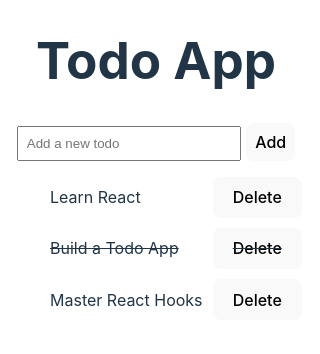
Test: TodoApp Component › should add a new todo when the "Add" button is clicked
The image size is (320, 354).
Type "Learn Testing" into the field with placeholder "Add a new todo". click: (129, 143)
box: top-left (17, 126), bottom-right (241, 161)
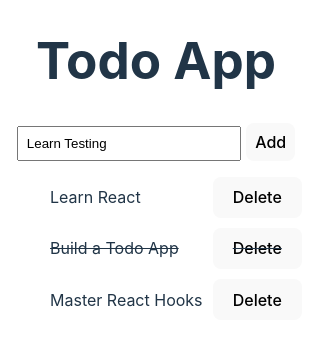
# Simulate the form submission (clicking the "Add" button)
Click the button "Add". click: click(271, 142)
box: top-left (246, 123), bottom-right (295, 161)
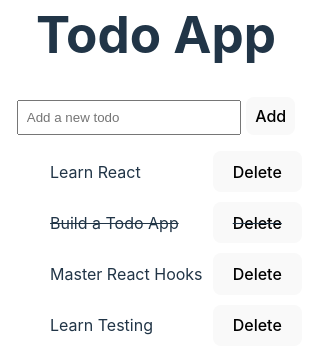
Result: the text "Learn Testing" is shown at top-left (50, 313), bottom-right (153, 337)
